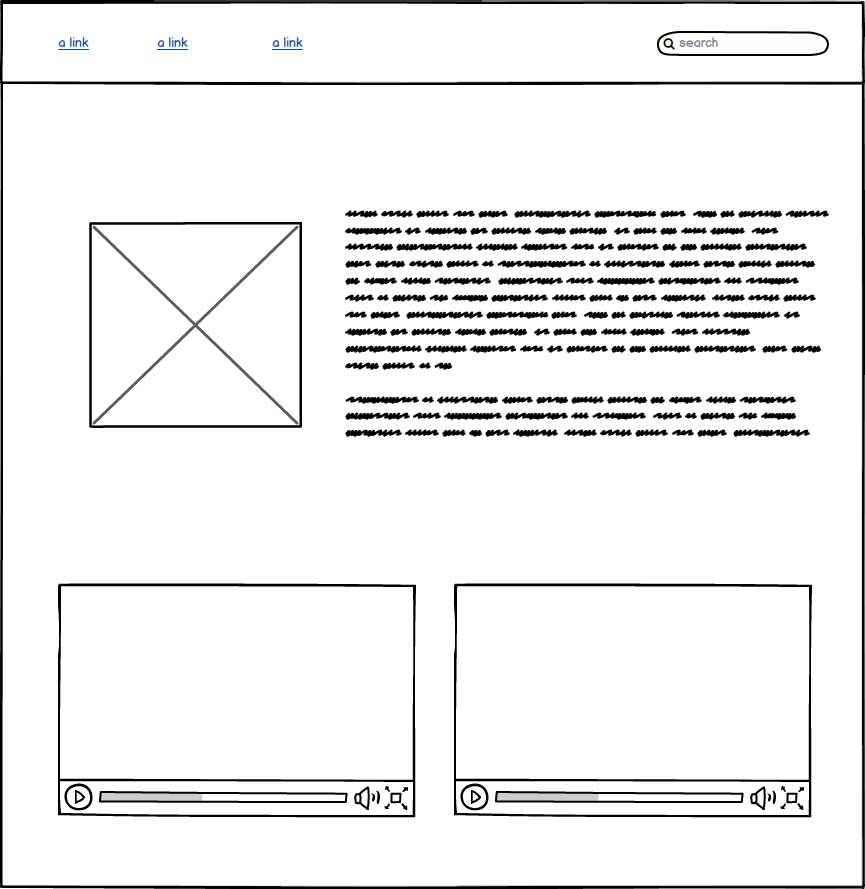image: (86, 213, 307, 433)
navlink: (53, 31, 98, 55), (263, 31, 310, 51), (153, 33, 193, 54)
p: (337, 204, 843, 443)
search: (655, 24, 834, 62)
video: (53, 578, 421, 824), (452, 581, 816, 823)
